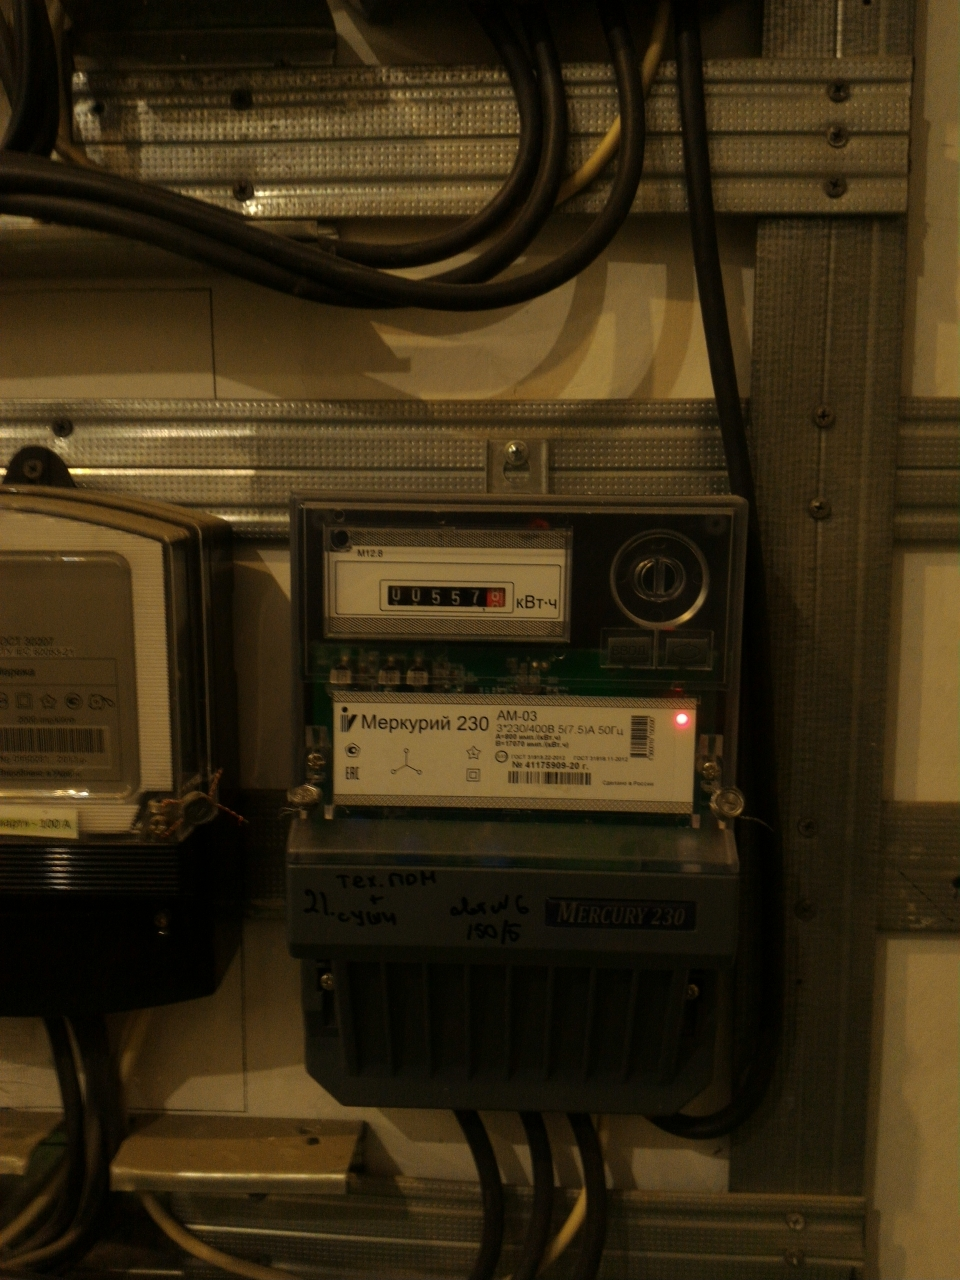0: (410, 586, 422, 602), (391, 585, 401, 600)
5: (450, 589, 461, 606), (430, 588, 441, 604)
7: (470, 589, 480, 604)
8: (490, 588, 501, 602)
screen: (378, 577, 515, 614)
